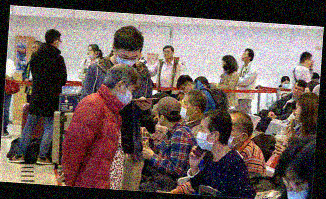mask_weared_incorrect: (84, 48, 95, 58)
with_mask: (194, 123, 214, 152), (115, 84, 134, 106), (114, 52, 139, 65), (178, 98, 191, 123), (220, 61, 229, 71), (280, 80, 290, 88)
without_mask: (292, 83, 305, 97), (294, 102, 303, 121), (179, 81, 192, 93), (303, 84, 313, 95), (162, 48, 171, 59), (240, 50, 247, 62), (29, 45, 37, 52)
